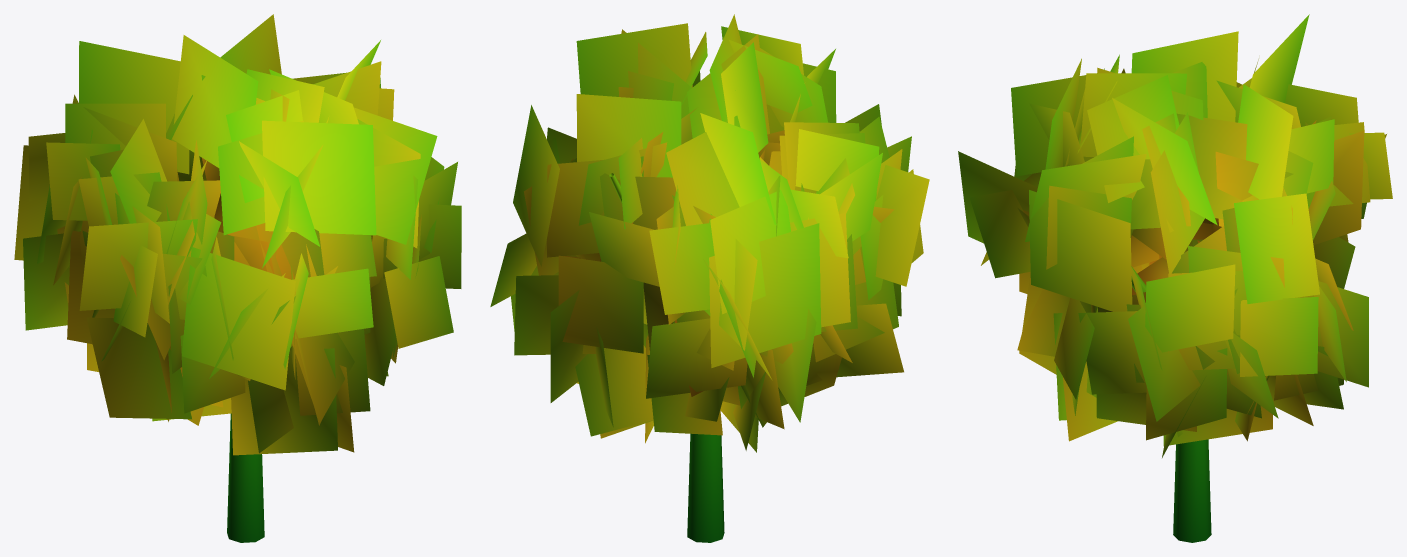
The model's file is SM_Oak_A.fbx.
3 views of the same model, side by side, from view 1: azimuth 30°, elevation 25°; view 2: azimuth 150°, elevation 25°; view 3: azimuth 270°, elevation 25° (orthographic).
Parts seen in each view (by area): view 1: SM_Oak_A; view 2: SM_Oak_A; view 3: SM_Oak_A.
Part boxes in pixels (box(x1,y1,x2,y2)): SM_Oak_A: box(14, 14, 461, 542); SM_Oak_A: box(490, 14, 929, 542); SM_Oak_A: box(958, 14, 1392, 542).
Bounding box in the file's own units: 967 × 951 × 1170.
